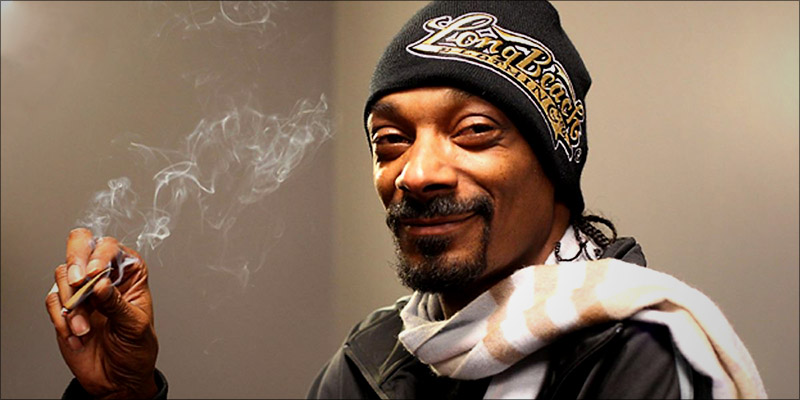cigarette: (47, 256, 143, 318)
